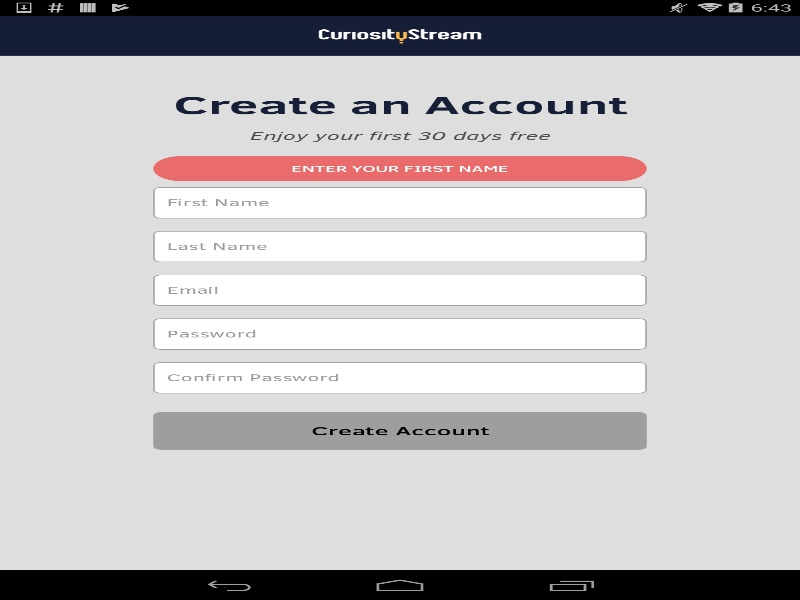Button: (153, 412, 646, 449), (501, 311, 653, 348), (146, 311, 297, 348), (324, 311, 475, 348)
Input: (153, 230, 646, 262), (153, 187, 646, 218), (153, 274, 646, 305), (153, 318, 646, 349), (153, 362, 646, 393)
